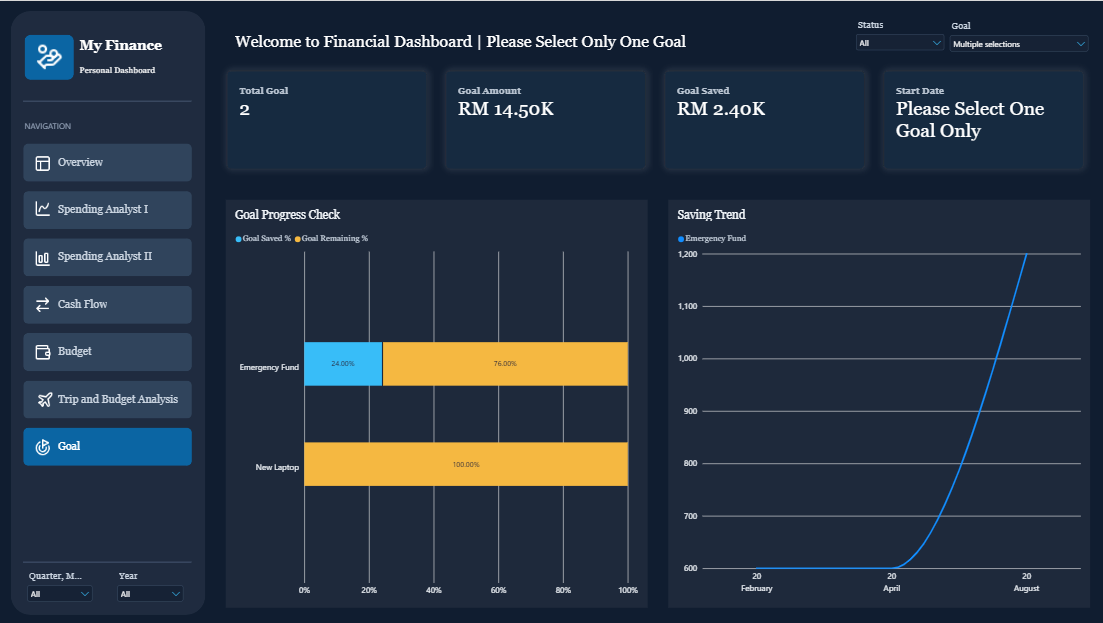

This screenshot's page, from the dashboard's own definition file:
{"tool":"powerbi","page":{"name":"Goal","canvas":[1920,1080],"ordinal":7},"visuals":[{"type":"shape","box":[22.9,17.1,337.1,1045.7],"z":0,"group":"g2"},{"type":"shape","box":[47,58,85.5,78.2],"z":0,"group":"g3"},{"type":"hundredPercentStackedBarChart","title":"Goal Progress Check","fields":{"Category":["Goal.Description"],"Y":["DAX Goal.Goal Remaining %","DAX Goal.Goal Saved %"]},"box":[396,344,730,706],"z":0},{"type":"image","box":[65.3,73,50.8,46.7],"z":1000,"group":"g3"},{"type":"cardVisual","fields":{"Data":["Dax Normal.Total Goal","Dax Normal.Goal Amount","Dax Normal.Goal Saved","DAX Goal.Start Date"]},"box":[384.3,108.1,1510,195],"z":1000,"group":"g1"},{"type":"slicer","fields":{"Values":["DateTable.Quarter","DateTable.Month"]},"box":[45.8,987.6,122.5,62.8],"z":1000,"group":"g2"},{"type":"group","id":"g1","title":"Group 4","box":[384.3,25,1510,278.1],"z":2000},{"type":"cardVisual","fields":{"Data":["DAX Goal.Text Selected Goal"]},"box":[395.3,25,1214.3,88.6],"z":2000,"group":"g1"},{"type":"textbox","box":[142.5,63.1,188.6,70],"z":2000,"group":"g3"},{"type":"slicer","fields":{"Values":["DateTable.Year"]},"box":[202,987.6,124.4,62.8],"z":2000,"group":"g2"},{"type":"pageNavigator","box":[44.2,246.9,292.2,558.9],"z":3000,"group":"g2"},{"type":"image","box":[62.8,265,32.7,30],"z":4000,"group":"g2"},{"type":"lineChart","title":"Saving Trend","fields":{"Category":["DateTable.Date.Variation.Date Hierarchy.Month","DateTable.Date.Variation.Date Hierarchy.Day"],"Series":["Goal.Description"],"Y":["DAX Goal.Goal Saving Trend"]},"box":[1162,344,730,706],"z":4000},{"type":"image","box":[65.6,674.4,32.5,30],"z":5000,"group":"g2"},{"type":"shape","box":[45,164,291,18],"z":6000,"group":"g2"},{"type":"image","box":[62.8,758.1,32.5,30],"z":7000,"group":"g2"},{"type":"group","id":"g2","title":"Group 3","box":[22.9,17.1,337.1,1045.7],"z":8000},{"type":"textbox","box":[45.8,204.3,99.3,21.8],"z":8000,"group":"g2"},{"type":"slicer","fields":{"Values":["Goal.Description"]},"box":[1644,35,250,63],"z":9000},{"type":"shape","box":[45,963,291,17],"z":9000,"group":"g2"},{"type":"slicer","fields":{"Values":["Goal.Description"]},"box":[2474.3,40,250,63],"z":10000},{"type":"group","id":"g3","title":"Group 2","box":[47,58,284,78],"z":10000,"group":"g2"},{"type":"slicer","fields":{"Values":["Goal.Status"]},"box":[1481.4,32.9,162.9,64.3],"z":11000},{"type":"image","box":[62.8,345,32.7,30],"z":11000,"group":"g2"},{"type":"image","box":[62.8,430,32.5,30],"z":12000,"group":"g2"},{"type":"image","box":[62.4,510,32.5,30],"z":13000,"group":"g2"},{"type":"image","box":[62.8,593.6,32.7,30],"z":14000,"group":"g2"}]}

Visuals, with their boxes on the page's 1920x1080 design canvas (x1, y1, x2, y2). These are canvas units, not pixel positions in the 1103x623 screenshot, which may show the page scaled, cropped or inside an application window:
shape: (left=23, top=17, right=360, bottom=1063)
shape: (left=47, top=58, right=132, bottom=136)
"Goal Progress Check" hundredPercentStackedBarChart: (left=396, top=344, right=1126, bottom=1050)
image: (left=65, top=73, right=116, bottom=120)
cardVisual - Dax Normal.Total Goal x Dax Normal.Goal Amount: (left=384, top=108, right=1894, bottom=303)
slicer - DateTable.Quarter x DateTable.Month: (left=46, top=988, right=168, bottom=1050)
"Group 4" group: (left=384, top=25, right=1894, bottom=303)
cardVisual - DAX Goal.Text Selected Goal: (left=395, top=25, right=1610, bottom=114)
textbox: (left=142, top=63, right=331, bottom=133)
slicer - DateTable.Year: (left=202, top=988, right=326, bottom=1050)
pageNavigator: (left=44, top=247, right=336, bottom=806)
image: (left=63, top=265, right=96, bottom=295)
"Saving Trend" lineChart: (left=1162, top=344, right=1892, bottom=1050)
image: (left=66, top=674, right=98, bottom=704)
shape: (left=45, top=164, right=336, bottom=182)
image: (left=63, top=758, right=95, bottom=788)
"Group 3" group: (left=23, top=17, right=360, bottom=1063)
textbox: (left=46, top=204, right=145, bottom=226)
slicer - Goal.Description: (left=1644, top=35, right=1894, bottom=98)
shape: (left=45, top=963, right=336, bottom=980)
slicer - Goal.Description: (left=2474, top=40, right=2724, bottom=103)
"Group 2" group: (left=47, top=58, right=331, bottom=136)
slicer - Goal.Status: (left=1481, top=33, right=1644, bottom=97)
image: (left=63, top=345, right=96, bottom=375)
image: (left=63, top=430, right=95, bottom=460)
image: (left=62, top=510, right=95, bottom=540)
image: (left=63, top=594, right=96, bottom=624)
